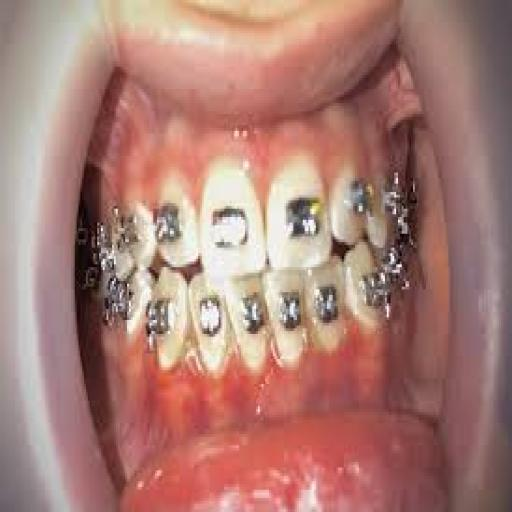correct_brace: (206, 199, 252, 255), (284, 188, 325, 246), (153, 193, 184, 252), (141, 293, 174, 347), (194, 291, 224, 346), (276, 283, 305, 339), (362, 263, 391, 318), (239, 282, 266, 339), (314, 274, 338, 335), (350, 175, 374, 223), (116, 208, 142, 249), (382, 172, 402, 220)
incorrect_brace: (149, 176, 196, 276), (190, 268, 229, 376), (308, 258, 346, 360), (330, 166, 367, 252)
